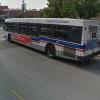Bus: (4, 13, 94, 62)
